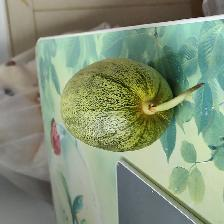gua: (59, 70, 178, 146)
